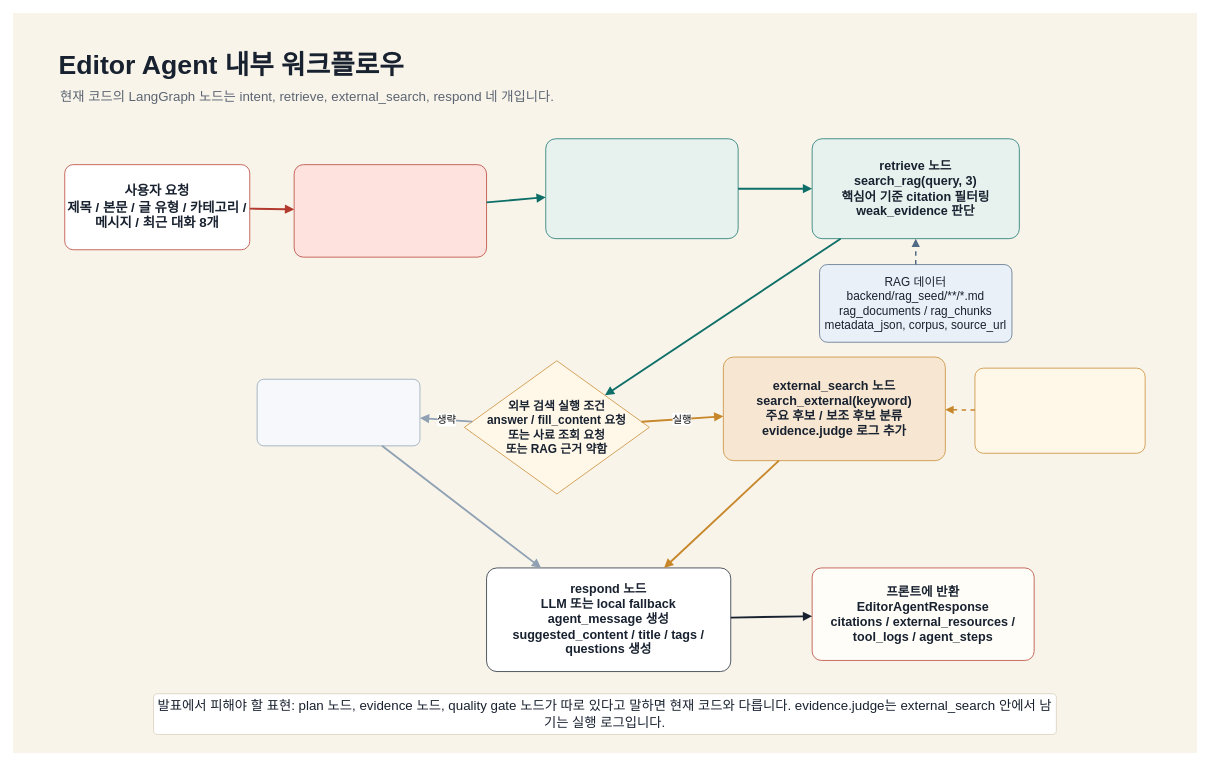
Some shapes in this 1209 by 765 pixel diagram are drawn without their labels. The shapes that lost their labels are listed below. From the top down, each one's centre as x and y in pixels, then its label:
[641,188]: intent 노드 요청 분류 answer / fill_content / revise_content RAG query 생성
[390,210]: Safety 검사 1. 메시지 검사 2. 메시지+제목+본문 검사 차단 시 즉시 안전 응답
[338,412]: 외부 검색 생략 내부 RAG 근거가 충분한 경우
[1059,410]: 외부 근거 후보 Naver discovery Sillok search trusted domains ranking
